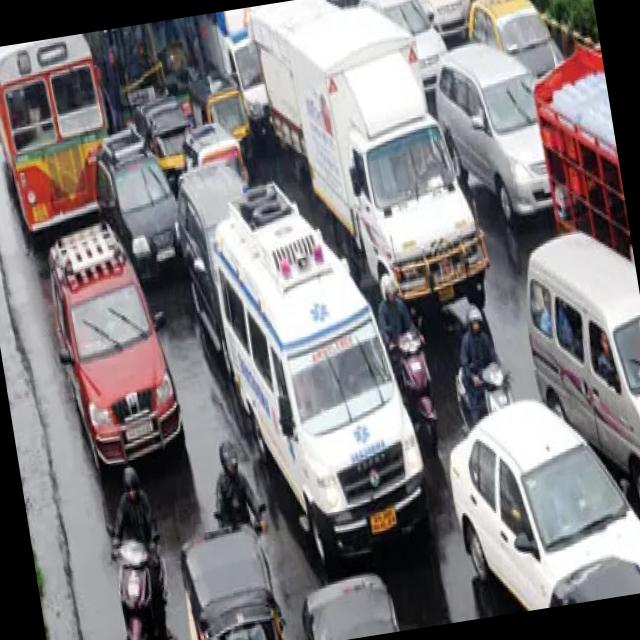ambulance: (195, 170, 450, 584)
